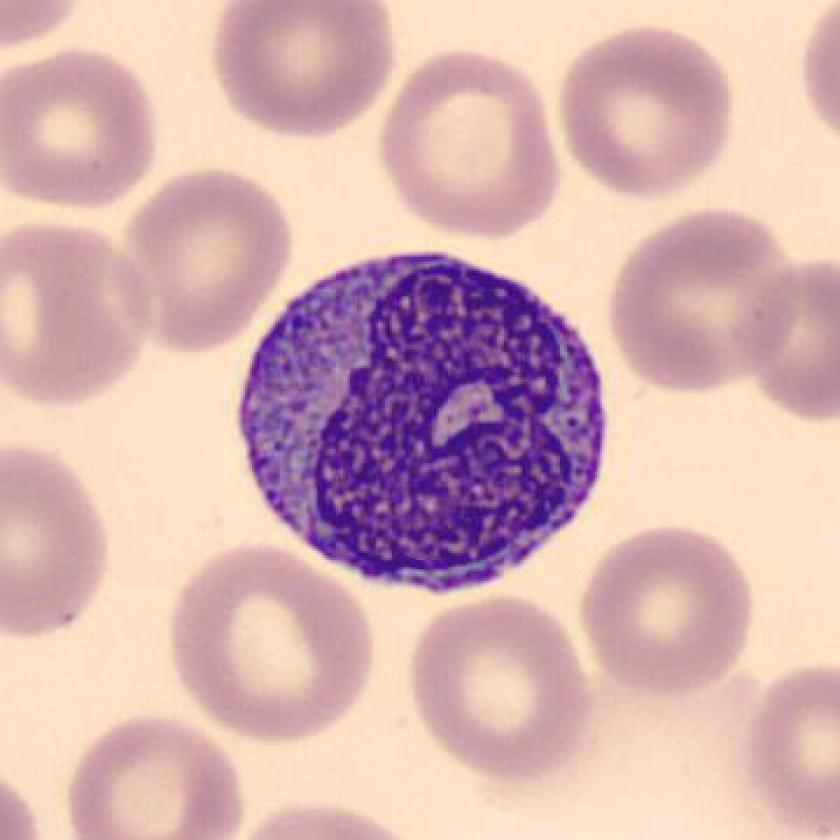monocyte: (216, 228, 633, 598)
